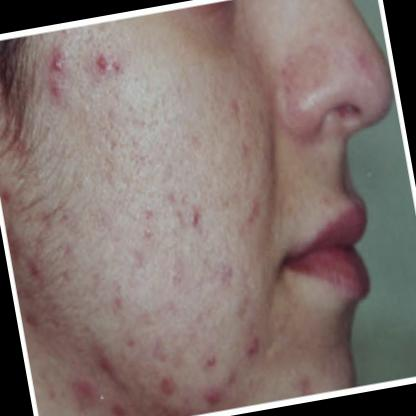Acne: (90, 39, 127, 86)
